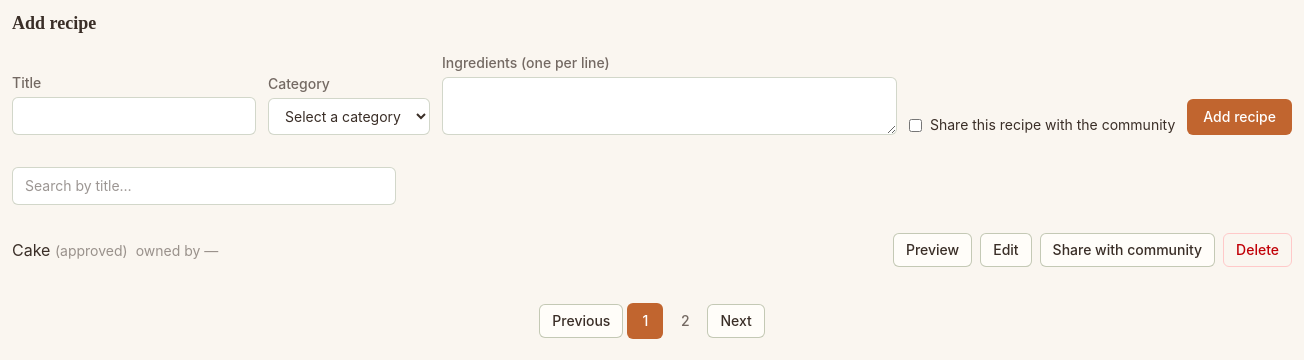
Scenario: RecipeManager › shows numbered pagination and requests the right offset when a page is clicked
This screenshot has width=1304, height=360.
Check: the text "Cake (approved)owned by —" is shown, box [12,238,218,262]
Step 1. Click the button "2" → (685, 321), box [667,303,703,339]
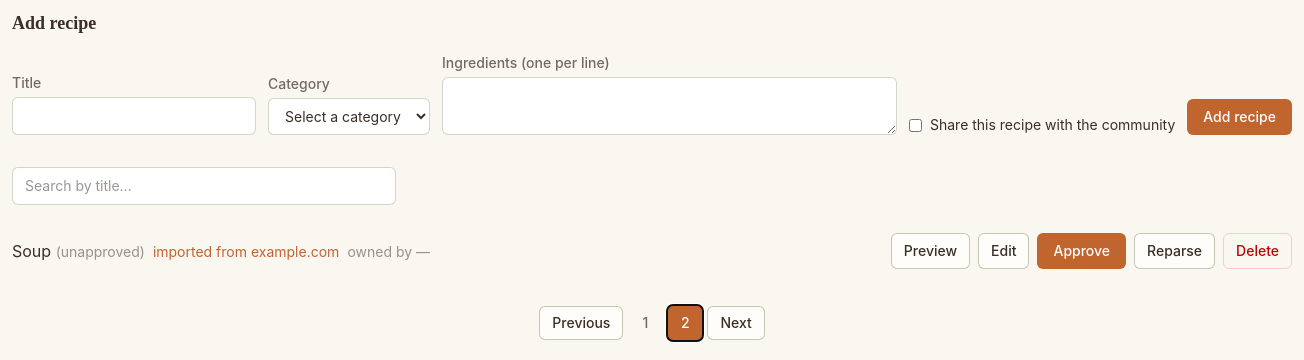
Check: the text "Soup (unapproved) imported from example.com owned by —" is shown, box [12,239,430,263]
